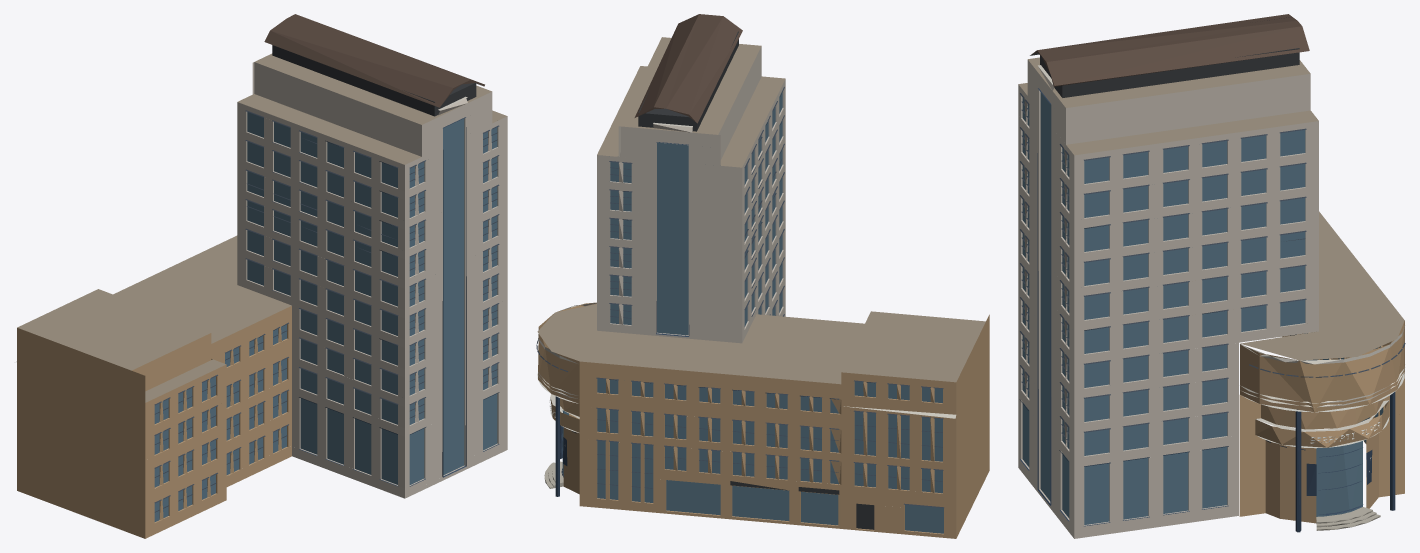
The model's file is sarphati-plaza.lod1.glb.
3 views of the same model, side by side, from view 1: azimuth 30°, elevation 25°; view 2: azimuth 150°, elevation 25°; view 3: azimuth 270°, elevation 25° (orthographic). The views are drawn at different scales.
Parts seen in each view (by area): view 1: sarphati-plaza; view 2: sarphati-plaza; view 3: sarphati-plaza.
Part boxes in pixels (left/top/right/bottom): sarphati-plaza: left=16, top=14, right=507, bottom=538; sarphati-plaza: left=536, top=14, right=989, bottom=538; sarphati-plaza: left=1018, top=14, right=1405, bottom=538.
Bounding box in the file's own units: 46.51 × 42.28 × 33.03.
